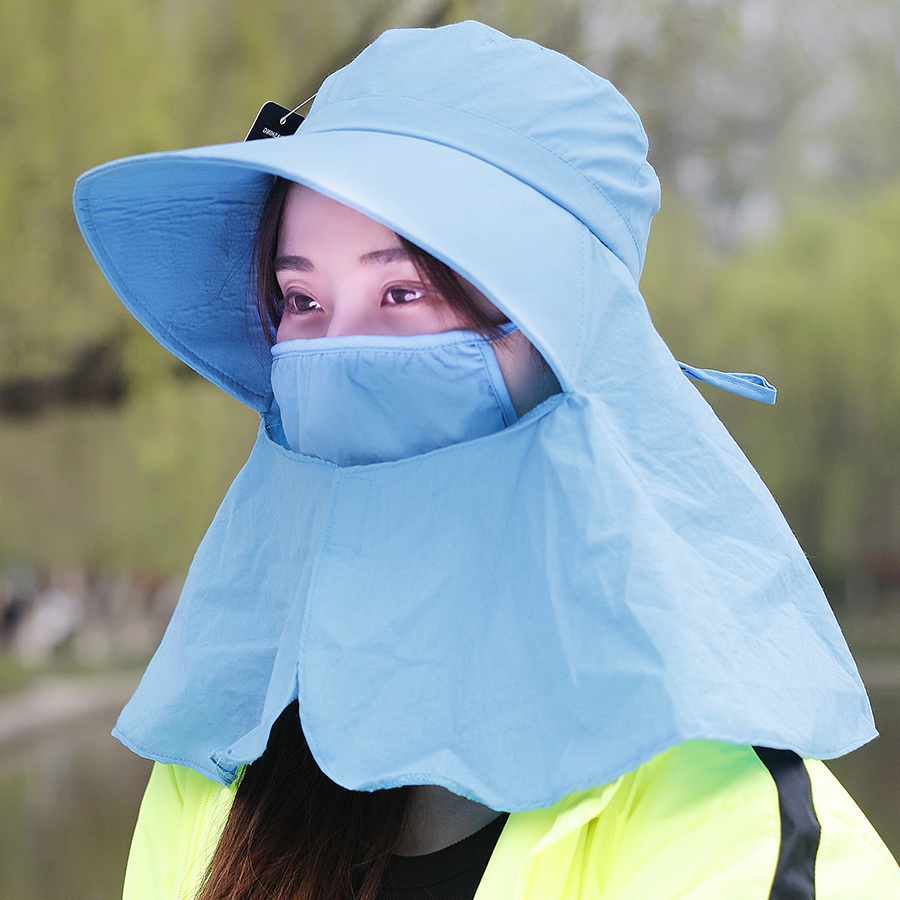face_mask: (274, 175, 489, 471)
